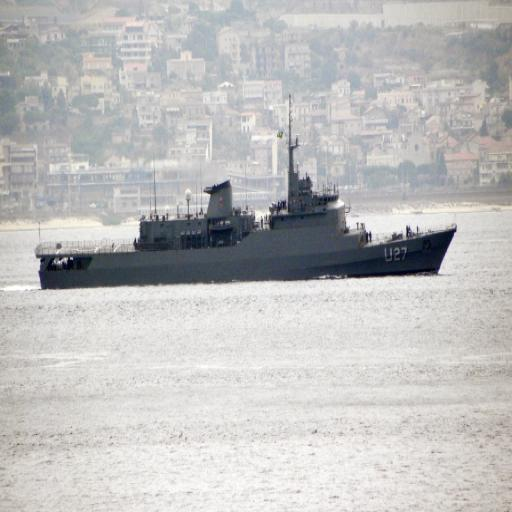Fragata: (35, 87, 467, 298)
